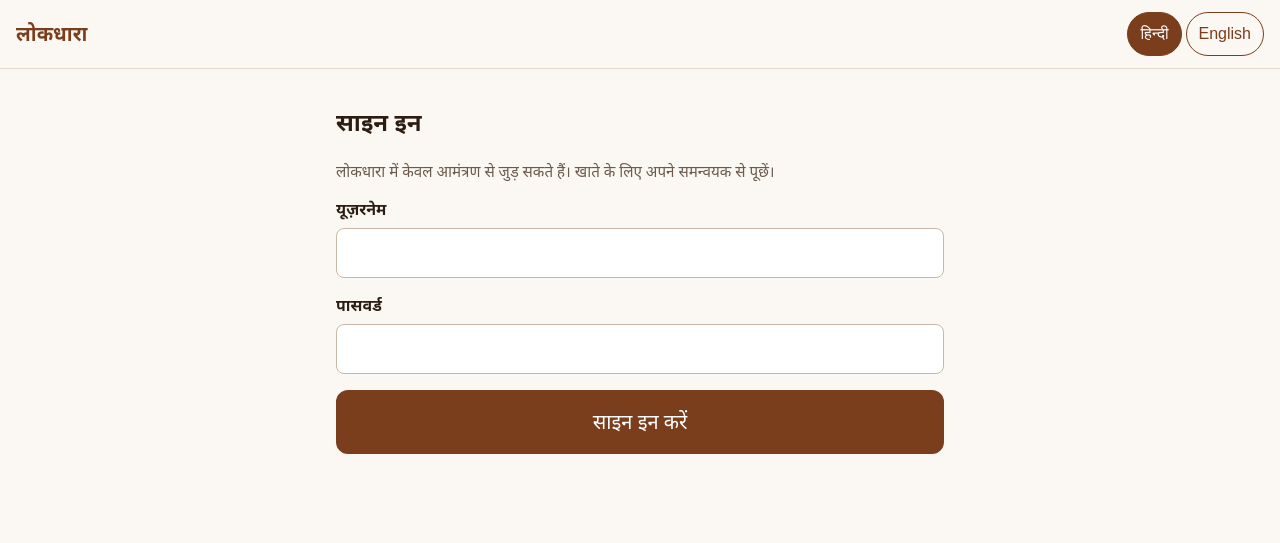
Test case: app shell and sign-in › explains a failed sign-in, then opens the home page
The image size is (1280, 543).
Type "asha" into the field labelled "यूज़रनेम".
click(640, 253); type("asha")  # box x1=336 y1=228 x2=944 y2=278
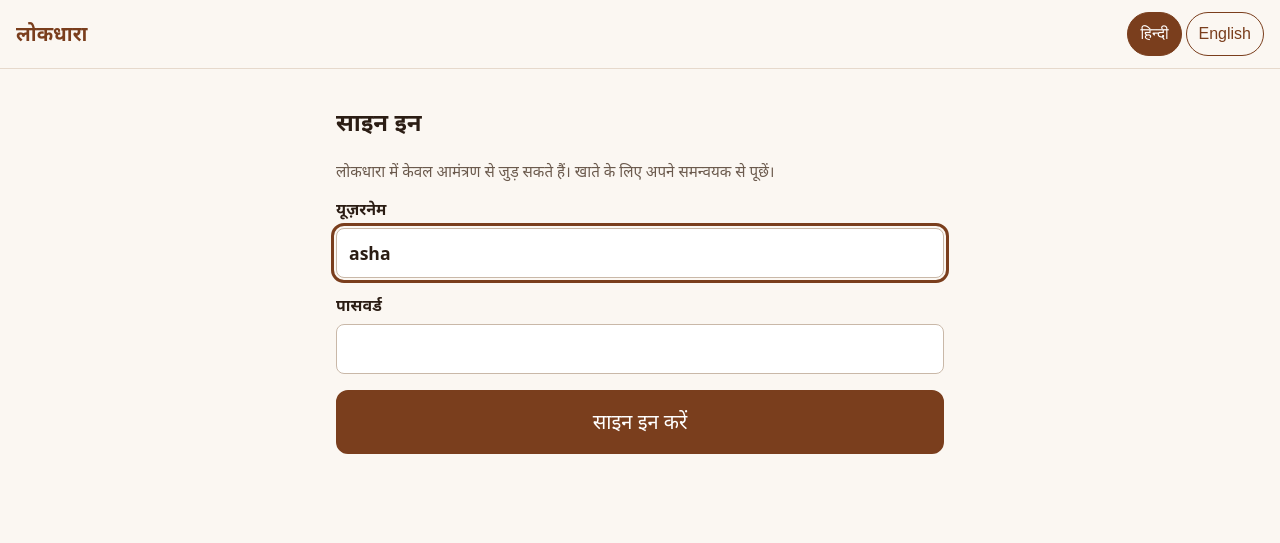
Type "wrong password" into the password field labelled "पासवर्ड".
click(640, 349); type("wrong password")  # box x1=336 y1=324 x2=944 y2=374
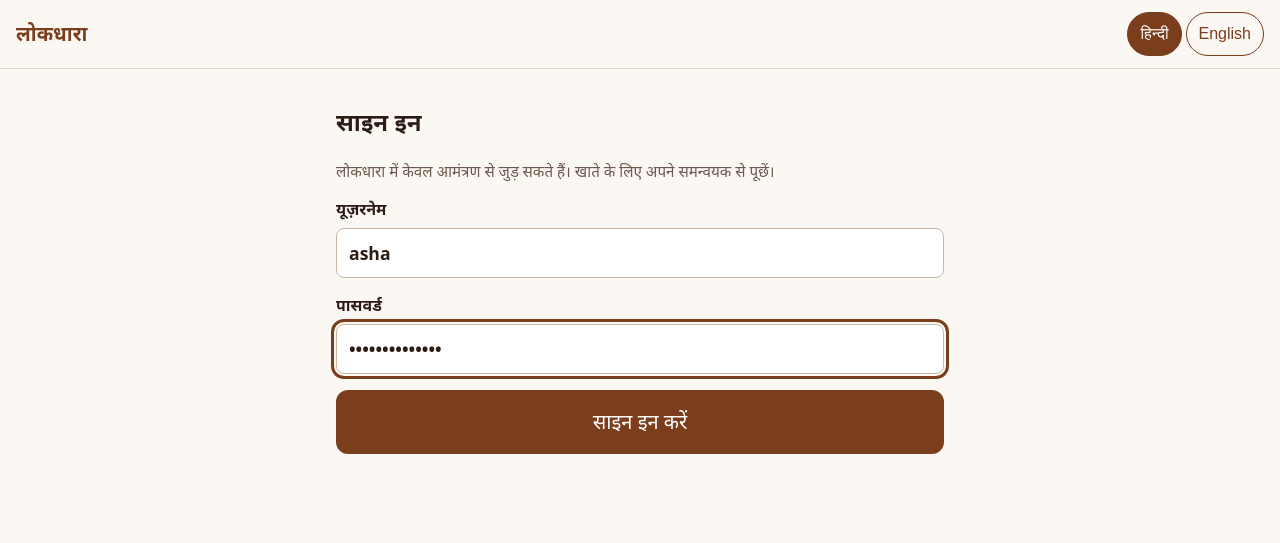
Click the button "साइन इन करें".
click(640, 422)  # box x1=336 y1=390 x2=944 y2=454
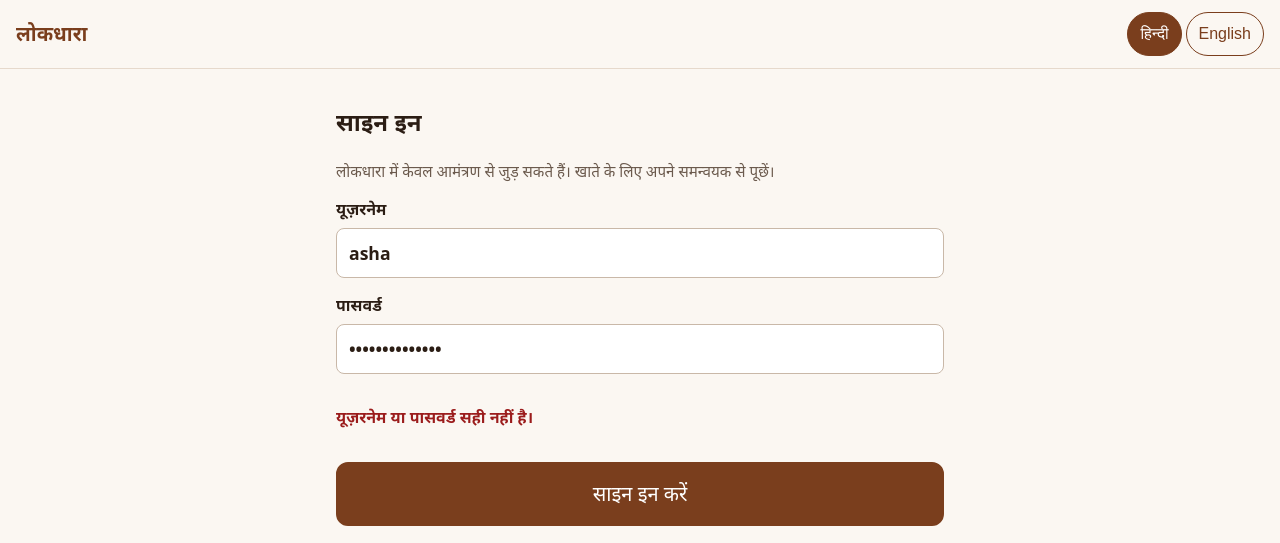
Expected: the message reads "यूज़रनेम या पासवर्ड सही नहीं है।", x1=336 y1=406 x2=533 y2=428
Click the button "साइन इन करें".
click(640, 494)  # box x1=336 y1=462 x2=944 y2=526
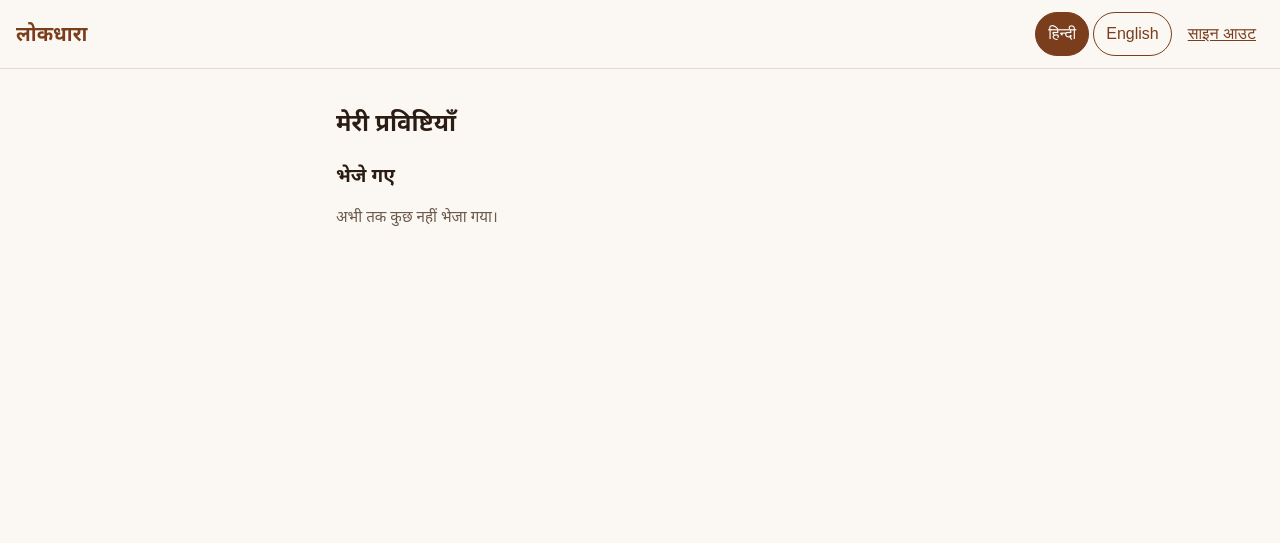
Expected: the heading "मेरी प्रविष्टियाँ" is shown, x1=336 y1=105 x2=456 y2=138
